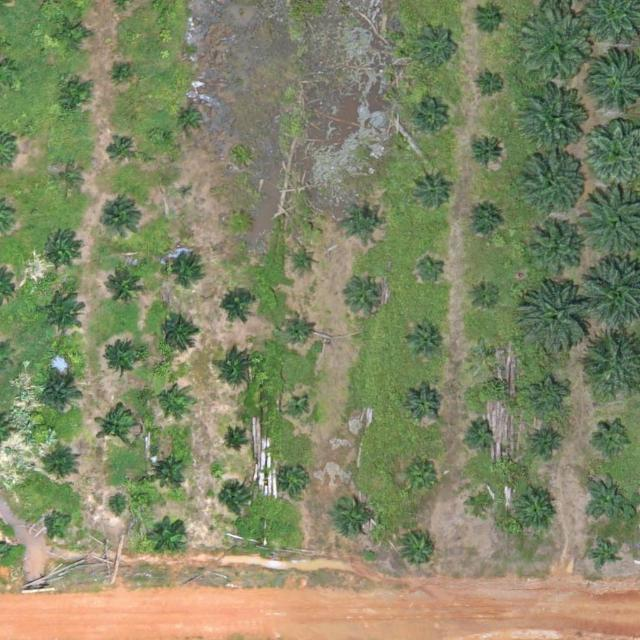Kelapa_Sawit: (515, 278, 593, 356), (516, 88, 586, 159), (521, 13, 591, 84), (520, 149, 582, 212), (527, 222, 582, 277), (99, 341, 145, 388), (38, 290, 84, 337), (96, 198, 142, 245), (101, 262, 147, 309), (331, 492, 377, 539), (94, 405, 140, 452), (37, 372, 83, 418), (413, 21, 459, 67), (511, 486, 557, 532), (584, 474, 630, 520), (350, 274, 389, 313), (343, 201, 382, 240), (165, 246, 204, 285), (150, 515, 189, 554), (42, 446, 81, 485), (150, 450, 189, 489), (411, 101, 450, 140), (404, 319, 443, 358), (404, 385, 443, 424), (400, 530, 439, 569), (400, 456, 439, 495), (467, 132, 506, 171), (218, 348, 256, 387), (217, 285, 255, 324), (158, 314, 197, 352), (43, 230, 81, 269), (54, 77, 92, 116), (411, 170, 449, 209), (529, 376, 567, 415), (594, 420, 632, 459), (465, 202, 503, 241), (53, 15, 91, 54), (155, 382, 186, 413), (218, 484, 249, 515), (281, 463, 312, 494), (533, 425, 564, 456), (588, 538, 619, 569), (469, 275, 500, 306), (468, 336, 499, 367), (462, 417, 493, 448), (465, 489, 496, 520), (416, 252, 447, 283), (282, 313, 313, 344), (45, 508, 76, 539), (51, 163, 82, 194), (472, 2, 503, 33), (475, 69, 506, 100), (176, 103, 207, 134), (105, 135, 136, 166), (293, 249, 316, 272), (287, 398, 310, 421), (221, 430, 244, 453), (105, 494, 128, 517), (229, 212, 252, 235), (113, 63, 128, 79), (178, 183, 193, 198)
